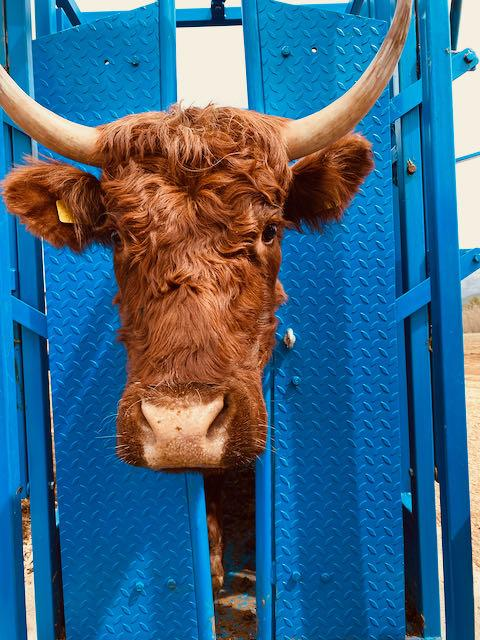muzzles: (105, 390, 268, 479)
